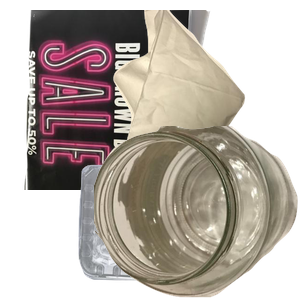glass: (94, 126, 300, 300)
paper: (22, 10, 225, 190)
plastic: (76, 162, 264, 300)
trash: (111, 10, 300, 190)
